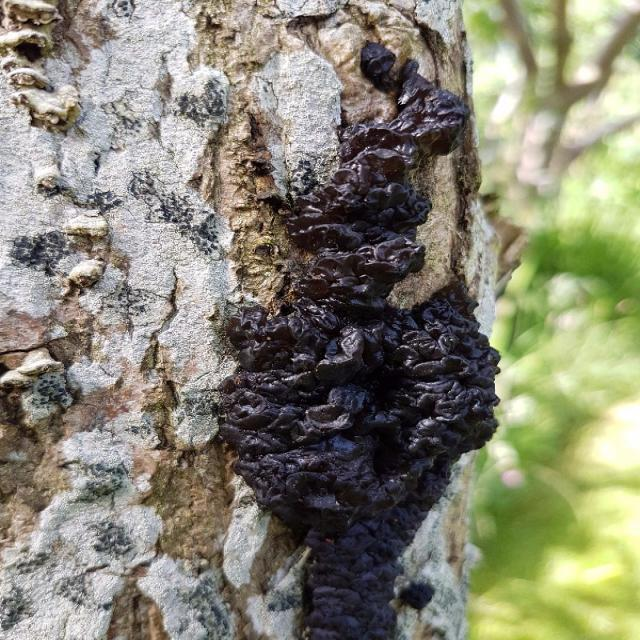Auricularia auricula: (232, 39, 499, 630)
